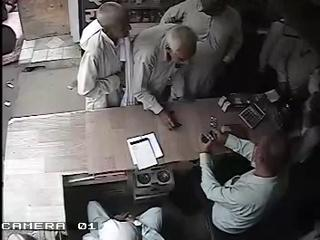Normal: (199, 119, 292, 240), (159, 0, 244, 101), (120, 24, 198, 131), (83, 200, 166, 240)
shoplifting: (76, 1, 132, 111)
